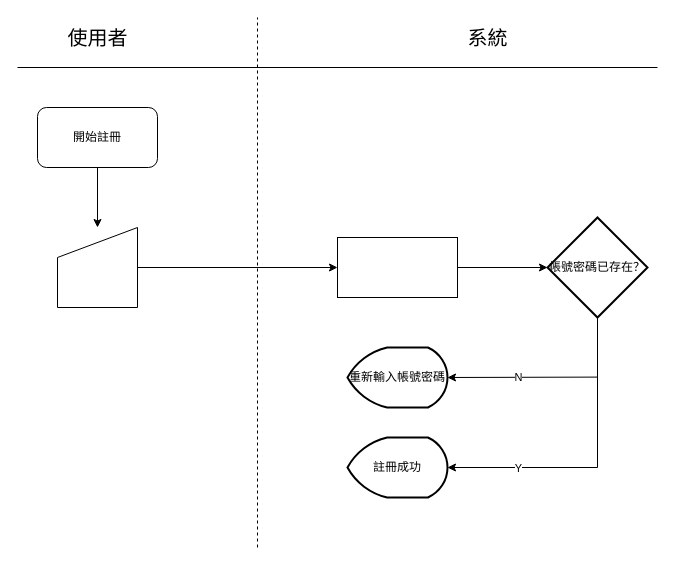
This 676x566 diagram has some shape labels left out. The shapes that lost their labels are listed below. From the top down, each one's centre as x and y in pixels, then its label:
At point (97, 267): "輸入帳號密碼".
At point (397, 267): "註冊處理".
